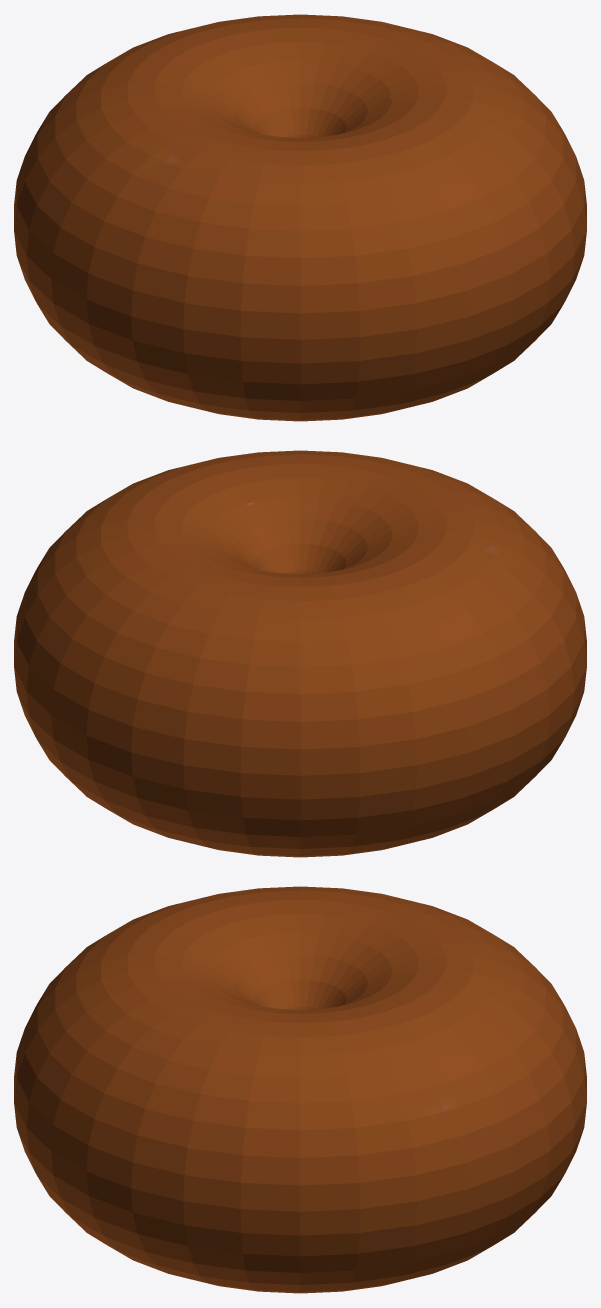
3 renders of one model, top to bottom at view 1: azimuth 30°, elevation 25°; view 2: azimuth 150°, elevation 25°; view 3: azimuth 270°, elevation 25°, orthographic.
Visible parts, largest first — view 1: algeomath (1); view 2: algeomath (1); view 3: algeomath (1).
Boxes of the visible parts, left/top/right/bottom form: algeomath (1): left=14, top=14, right=586, bottom=421; algeomath (1): left=14, top=450, right=586, bottom=857; algeomath (1): left=14, top=886, right=586, bottom=1293.
Size of the model in its own units: 0.3 by 0.1477 by 0.2984.
1 material, 1 textured.
